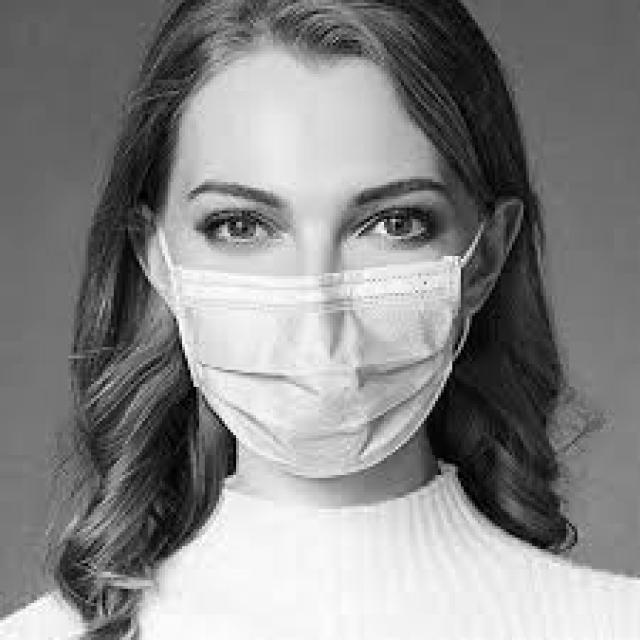with_mask: (134, 210, 486, 478)
